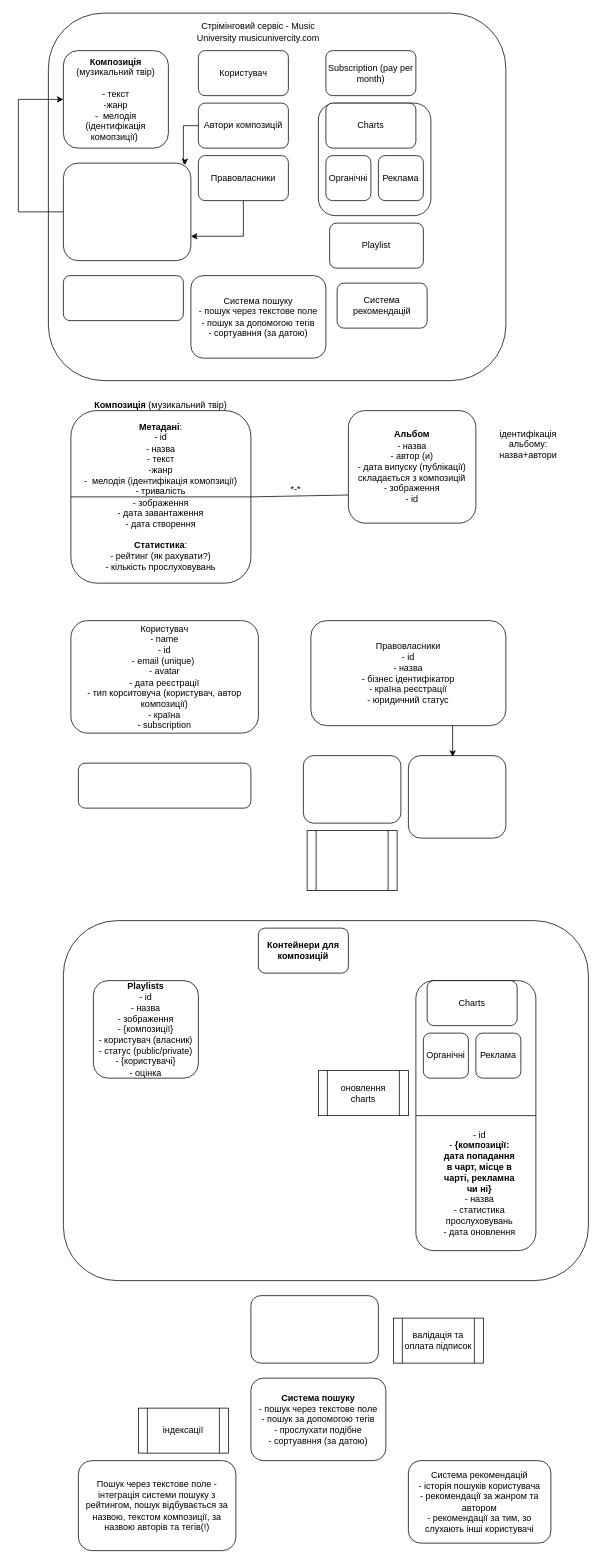
This 602x1564 diagram has some shape labels left out. Here are the shapes that lost their labels. From the top down, the centre of each, then its label:
(x=127, y=211): Альбом - назва - автор - дата випуску (публікації) складається з композицій
(x=123, y=298): Категорії
(x=164, y=785): Категорії - id - назва {композиції, вага відносно категорії}
(x=352, y=789): Автори композицій - id - власні композиції - правовласник(label) - назва -
(x=457, y=796): Співробітники - id - email (корпоративним) - ФІО - посада
(x=351, y=860): верифікації авторів (наприклад, за папортниим даними)
(x=314, y=1329): Subscription (pay per month) - id - термін - вартість
